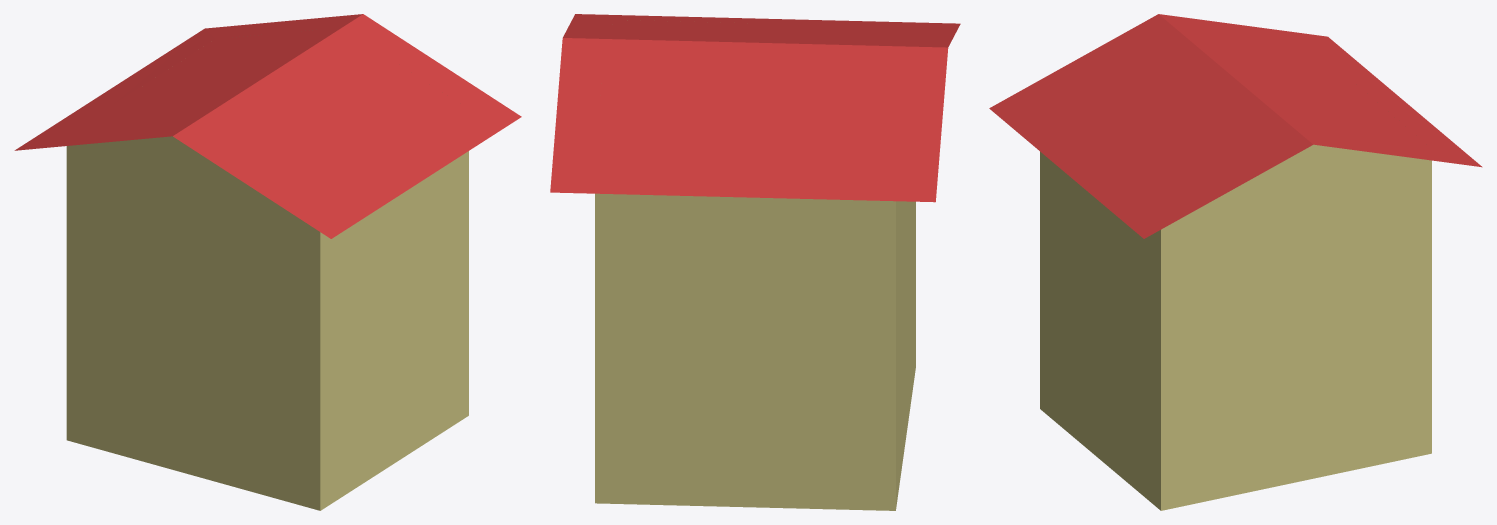
3 renders of one model, left to right at view 1: azimuth 30°, elevation 25°; view 2: azimuth 150°, elevation 25°; view 3: azimuth 270°, elevation 25°, orthographic. The views are drawn at different scales.
Parts seen in each view (by area): view 1: group_5, group_3, group_4; view 2: group_5, group_3, group_4; view 3: group_5, group_3, group_4.
Boxes of the visible parts, <box> form: group_5: <box>66,136,468,510</box>; group_3: <box>14,14,521,238</box>; group_4: <box>111,14,521,160</box>; group_5: <box>595,20,915,510</box>; group_3: <box>551,14,960,202</box>; group_4: <box>550,14,947,196</box>; group_5: <box>1040,144,1431,510</box>; group_3: <box>989,14,1481,238</box>; group_4: <box>1096,14,1482,238</box>.
Size of the model in its own units: 9.44 by 9.73 by 7.65.
